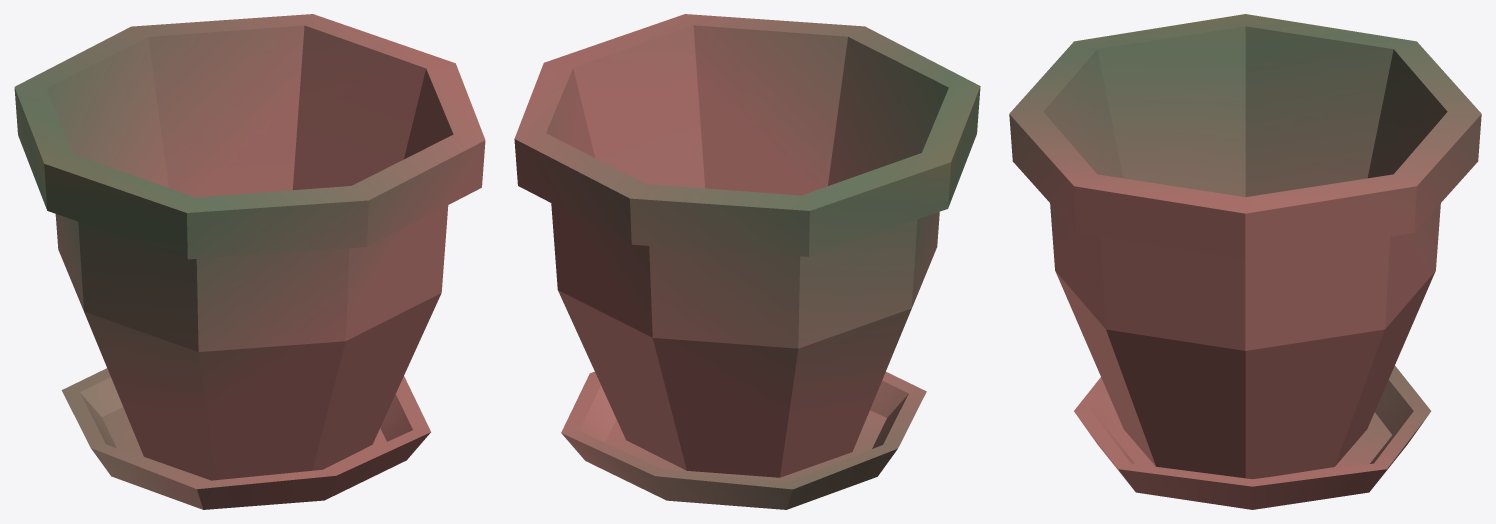
File: PlantPot_03.fbx
The picture shows the model from 3 angles, left to right: view 1: azimuth 30°, elevation 25°; view 2: azimuth 150°, elevation 25°; view 3: azimuth 270°, elevation 25°; orthographic projection.
Parts seen in each view (by area): view 1: PlantPot_03; view 2: PlantPot_03; view 3: PlantPot_03.
Part boxes in pixels (x1,y1,x2,y2): PlantPot_03: (14,14,485,509); PlantPot_03: (514,14,980,509); PlantPot_03: (1009,14,1481,509).
Bounding box in the file's own units: 27.05 × 21.01 × 27.05.
